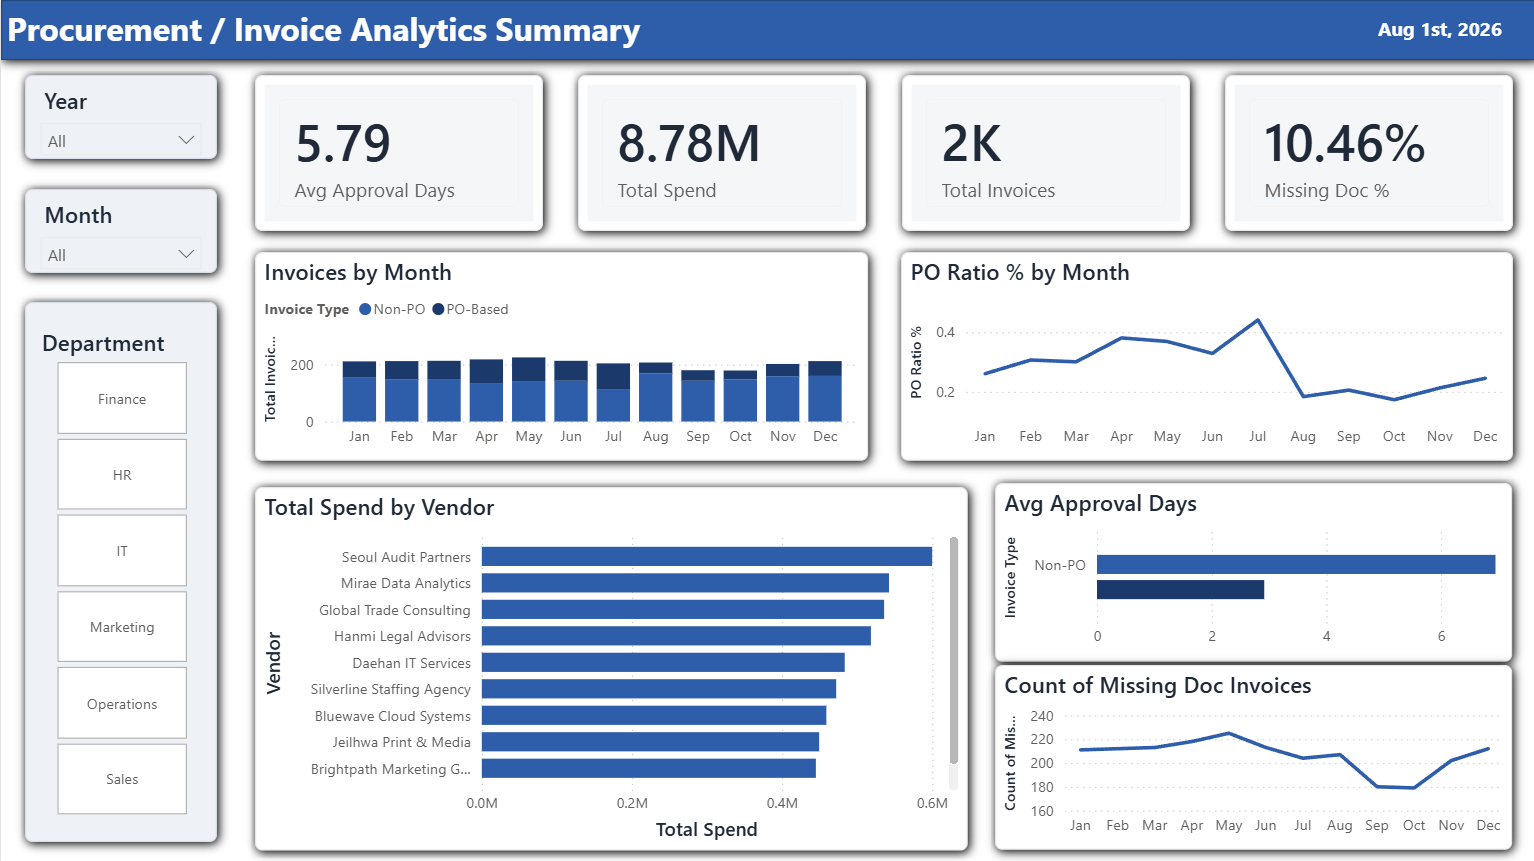

This screenshot's page, from the dashboard's own definition file:
{"tool":"powerbi","page":{"name":"Page 1","canvas":[1280,720],"ordinal":0},"visuals":[{"type":"shape","box":[0,0,1280,50],"z":0},{"type":"columnChart","title":"Invoices by Month","fields":{"Category":["Date.Month"],"Y":["Invoice Data.Total Invoices"],"Series":["Invoice Data.Invoice Type"]},"box":[211.4,210,511.4,174.3],"z":1000},{"type":"lineChart","fields":{"Category":["Date.Month"],"Y":["Invoice Data.PO Ratio %"]},"box":[750,210,510,174.3],"z":2000},{"type":"barChart","fields":{"Category":["Invoice Data.Vendor"],"Y":["Invoice Data.Total Spend"]},"box":[211.4,405.7,594.3,302.9],"z":3000},{"type":"cardVisual","fields":{"Data":["Invoice Data.Avg Approval Days"]},"box":[211.4,62.9,240,130],"z":4000},{"type":"clusteredBarChart","title":"Avg Approval Days","fields":{"Category":["Invoice Data.Invoice Type"],"Y":["Invoice Data.Avg Approval Days"]},"box":[828.6,402.9,431.4,148.6],"z":5000},{"type":"lineChart","title":"Count of Missing Doc Invoices","fields":{"Category":["Date.Month"],"Y":["CountNonNull(Invoice Data.Missing Doc Invoices)"]},"box":[828.6,554.3,431.4,154.3],"z":6000},{"type":"slicer","fields":{"Values":["Date.Year"]},"box":[20,62.9,160,70],"z":7000},{"type":"slicer","fields":{"Values":["Date.Month"]},"box":[20,157.1,160,70],"z":8000},{"type":"slicer","fields":{"Values":["Invoice Data.Department"]},"box":[20,251.4,160,450],"z":9000},{"type":"textbox","box":[0,0,591.4,54.3],"z":10000},{"type":"textbox","box":[1142.9,8.6,117.1,35.7],"z":11000},{"type":"cardVisual","fields":{"Data":["Invoice Data.Total Spend"]},"box":[481,62.9,240,130],"z":12000},{"type":"cardVisual","fields":{"Data":["Invoice Data.Total Invoices"]},"box":[750.5,62.9,240,130],"z":13000},{"type":"cardVisual","fields":{"Data":["Invoice Data.Missing Doc %"]},"box":[1020,62.9,240,130],"z":14000}]}

Visuals, with their boxes in screenshot pixels (x1, y1, x2, y2), scaled from the page's 1280x720 canvas onto the 1534x861 screenshot:
shape: Rect(0, 0, 1533, 60)
"Invoices by Month" columnChart: Rect(253, 251, 866, 460)
lineChart - Date.Month x Invoice Data.PO Ratio %: Rect(899, 251, 1510, 460)
barChart - Invoice Data.Vendor x Invoice Data.Total Spend: Rect(253, 485, 966, 847)
cardVisual - Invoice Data.Avg Approval Days: Rect(253, 75, 541, 231)
"Avg Approval Days" clusteredBarChart: Rect(993, 482, 1510, 660)
"Count of Missing Doc Invoices" lineChart: Rect(993, 663, 1510, 847)
slicer - Date.Year: Rect(24, 75, 216, 159)
slicer - Date.Month: Rect(24, 188, 216, 272)
slicer - Invoice Data.Department: Rect(24, 301, 216, 839)
textbox: Rect(0, 0, 709, 65)
textbox: Rect(1370, 10, 1510, 53)
cardVisual - Invoice Data.Total Spend: Rect(576, 75, 864, 231)
cardVisual - Invoice Data.Total Invoices: Rect(899, 75, 1187, 231)
cardVisual - Invoice Data.Missing Doc %: Rect(1222, 75, 1510, 231)
